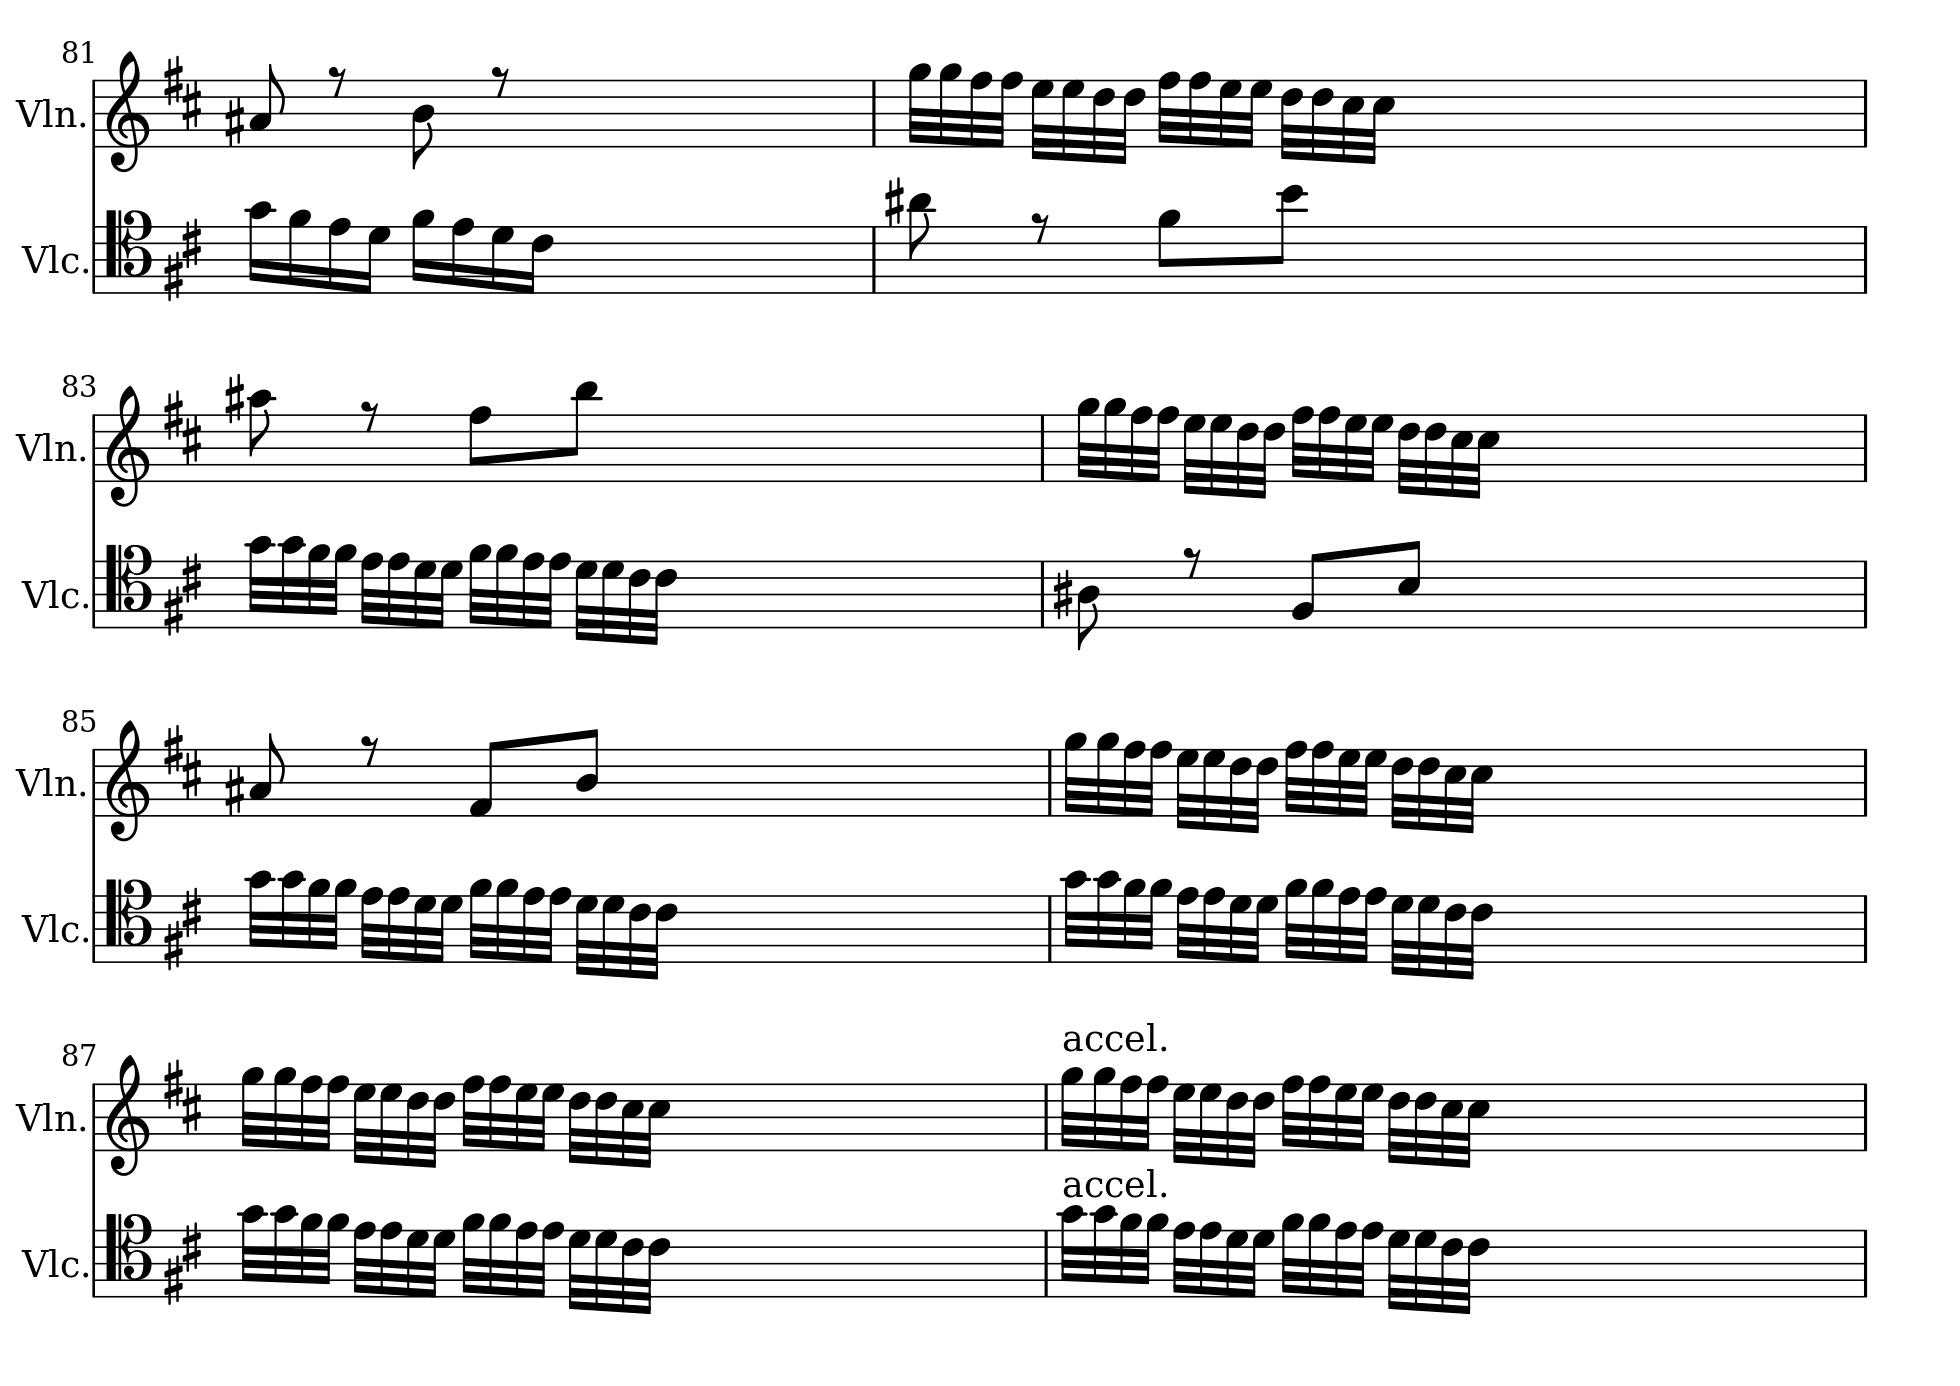1: (79, 37, 94, 64)
16_10: (246, 199, 274, 295)
16_6: (523, 223, 553, 295)
16_7: (360, 223, 391, 295), (487, 223, 514, 295)
16_8: (448, 214, 475, 294), (325, 214, 351, 295)
16_9: (286, 205, 310, 295), (409, 205, 433, 295)
3: (60, 372, 79, 397), (79, 372, 97, 397)
32_10: (1060, 868, 1092, 963), (1056, 1203, 1087, 1297), (244, 534, 274, 631), (268, 1203, 298, 1300), (244, 868, 274, 964), (277, 868, 307, 964), (277, 534, 306, 631), (1093, 868, 1122, 964), (238, 1203, 267, 1297), (1090, 1204, 1119, 1297)
32_5: (1368, 78, 1398, 165), (1473, 412, 1501, 499), (643, 1081, 672, 1168), (1462, 1081, 1491, 1168), (1467, 747, 1494, 834), (1341, 76, 1366, 163), (619, 1080, 645, 1167), (1450, 411, 1474, 498), (1440, 1081, 1464, 1167), (1444, 745, 1467, 832)
32_6: (1116, 76, 1147, 163), (427, 1080, 457, 1168), (1246, 1080, 1276, 1168), (1257, 412, 1287, 499), (1251, 747, 1281, 834), (649, 559, 678, 646), (625, 556, 652, 645), (1227, 745, 1254, 834), (651, 892, 678, 981), (1467, 892, 1494, 979), (403, 1080, 430, 1167), (643, 1228, 670, 1315), (1386, 1081, 1413, 1164), (1224, 1080, 1249, 1167), (1464, 1227, 1489, 1314), (1396, 411, 1422, 496), (1390, 745, 1416, 831), (594, 1080, 619, 1165), (1413, 1080, 1438, 1165), (1279, 76, 1305, 160), (1311, 78, 1336, 162), (1423, 412, 1449, 496), (567, 1081, 592, 1165), (628, 892, 652, 981), (619, 1227, 643, 1315), (1092, 76, 1116, 163), (1236, 412, 1260, 499), (1417, 745, 1441, 832), (1443, 892, 1467, 979), (1440, 1227, 1464, 1314)
32_7: (553, 889, 595, 972), (1029, 76, 1056, 160), (1200, 747, 1227, 831), (1242, 78, 1273, 148), (1060, 76, 1086, 162), (600, 892, 625, 978), (1249, 892, 1279, 964), (535, 1081, 565, 1153), (426, 1227, 456, 1299), (1246, 1227, 1276, 1299), (1182, 412, 1207, 496), (600, 559, 625, 643), (378, 1081, 403, 1165), (1197, 1081, 1222, 1165), (1386, 1227, 1411, 1311), (1365, 412, 1395, 483), (1359, 747, 1389, 817), (433, 894, 463, 964), (1416, 894, 1441, 976), (1171, 1081, 1197, 1164), (567, 1228, 592, 1311), (592, 1228, 618, 1311), (1209, 412, 1233, 496), (574, 559, 598, 643), (574, 892, 598, 976), (1390, 892, 1414, 976), (352, 1081, 376, 1165), (435, 559, 463, 630), (1356, 1081, 1384, 1152), (1176, 747, 1200, 829), (1413, 1228, 1437, 1311), (411, 558, 436, 630), (1336, 745, 1362, 817), (411, 892, 436, 964), (1227, 892, 1252, 964), (403, 1227, 429, 1299), (1216, 78, 1242, 148), (1342, 412, 1368, 483), (513, 1081, 538, 1152), (1224, 1227, 1248, 1299), (1333, 1081, 1357, 1152)
32_8: (504, 547, 538, 631), (993, 69, 1023, 148), (1359, 885, 1387, 967), (1144, 739, 1173, 820), (1141, 1072, 1170, 1153), (544, 885, 571, 967), (1152, 403, 1179, 484), (544, 550, 571, 631), (322, 1072, 349, 1153), (1357, 1219, 1384, 1300), (1128, 403, 1153, 484), (1336, 885, 1362, 966), (1117, 1072, 1143, 1153), (538, 1219, 564, 1300), (1332, 1219, 1357, 1300), (967, 70, 993, 150), (1284, 739, 1309, 819), (1201, 885, 1227, 964), (513, 1219, 538, 1299), (358, 886, 384, 964), (1197, 1219, 1222, 1297), (1291, 403, 1315, 484), (360, 550, 384, 631), (385, 550, 409, 631), (520, 550, 544, 631), (460, 1072, 484, 1153), (352, 1219, 376, 1300), (1171, 1219, 1195, 1300), (1158, 69, 1182, 148), (1188, 70, 1212, 150), (1317, 405, 1341, 484), (1122, 739, 1146, 819), (1311, 739, 1335, 819), (1176, 885, 1200, 964), (298, 1072, 322, 1152), (487, 1074, 511, 1153), (1281, 1072, 1305, 1152), (378, 1219, 402, 1299), (385, 886, 409, 964), (520, 886, 544, 964), (1306, 1072, 1330, 1150)
32_9: (238, 1063, 265, 1153), (322, 1210, 349, 1300), (1143, 1210, 1170, 1300), (1305, 1210, 1332, 1300), (304, 876, 331, 964), (1146, 876, 1173, 964), (1120, 877, 1147, 964), (466, 541, 492, 631), (1095, 730, 1120, 820), (331, 876, 357, 966), (1060, 1063, 1086, 1153), (1090, 1063, 1116, 1153), (298, 1209, 324, 1299), (1102, 396, 1128, 484), (306, 541, 331, 630), (331, 543, 357, 631), (1117, 1210, 1143, 1299), (1063, 730, 1089, 817), (468, 877, 493, 964), (493, 877, 519, 964), (1309, 877, 1335, 964), (271, 1065, 297, 1152), (1077, 394, 1101, 484), (493, 541, 517, 631), (487, 1210, 511, 1300), (907, 61, 931, 150), (937, 61, 961, 150), (1284, 877, 1308, 966), (460, 1210, 484, 1299), (1281, 1210, 1305, 1299)
5: (79, 705, 96, 733)
7: (79, 1041, 97, 1066)
8: (58, 705, 79, 735), (60, 1039, 78, 1068), (60, 37, 78, 64)
8_1: (466, 738, 502, 817)
8_10: (247, 388, 276, 483)
8_11: (565, 378, 601, 484), (906, 190, 937, 295)
8_12: (1267, 183, 1308, 295)
8_2: (1293, 550, 1327, 628)
8_3: (249, 61, 286, 148), (249, 730, 286, 817)
8_4: (409, 76, 436, 169), (574, 727, 600, 819), (1077, 559, 1101, 649)
8_5: (1396, 538, 1422, 630)
8_8: (466, 403, 493, 483)
8_9: (1156, 207, 1182, 295)
D_S: (162, 550, 202, 634), (162, 885, 202, 967), (162, 1219, 202, 1302), (162, 217, 202, 298), (162, 54, 202, 130), (162, 1057, 202, 1134), (162, 388, 202, 463), (162, 724, 202, 799)
Gclef: (103, 718, 150, 844), (103, 49, 150, 174), (103, 384, 150, 508), (103, 1053, 148, 1177)
Rests8: (490, 63, 511, 97), (358, 397, 379, 432), (327, 64, 348, 97), (1182, 544, 1203, 577), (358, 733, 379, 766), (1030, 210, 1050, 243)
Sharp: (223, 763, 244, 817), (223, 94, 244, 147), (223, 372, 244, 424), (883, 175, 904, 226), (1053, 568, 1072, 619)
Single_barline: (1041, 748, 1059, 814), (1041, 895, 1059, 961), (1035, 414, 1051, 481), (865, 79, 882, 145), (1857, 79, 1873, 145), (1857, 226, 1873, 292), (1857, 414, 1873, 480), (1857, 559, 1873, 625), (1035, 561, 1051, 627), (1857, 748, 1873, 814), (1857, 895, 1873, 961), (1857, 1083, 1873, 1149), (1038, 1084, 1054, 1150), (1038, 1230, 1054, 1294), (1857, 1230, 1873, 1294), (865, 226, 880, 292), (85, 559, 100, 625), (85, 226, 100, 291), (85, 895, 100, 960), (87, 1230, 100, 1296), (88, 78, 100, 147), (88, 412, 100, 481), (88, 1083, 100, 1150), (88, 748, 100, 814)
Tensor_Cclef: (103, 205, 151, 294), (103, 876, 151, 963), (103, 543, 151, 628), (103, 1212, 151, 1297)
Vlc: (19, 237, 79, 279), (19, 571, 79, 613), (19, 907, 79, 948), (19, 1242, 79, 1282)
Vln: (15, 762, 76, 805), (16, 1096, 78, 1140), (15, 427, 78, 469), (16, 93, 78, 135)
